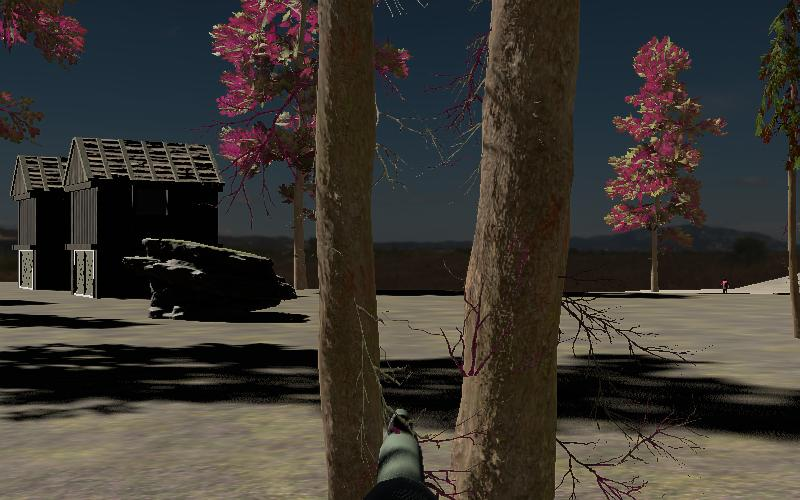House: (64, 134, 224, 297), (10, 154, 73, 294)
